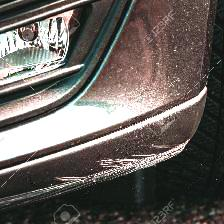bumper_scratch: (41, 128, 182, 182)
